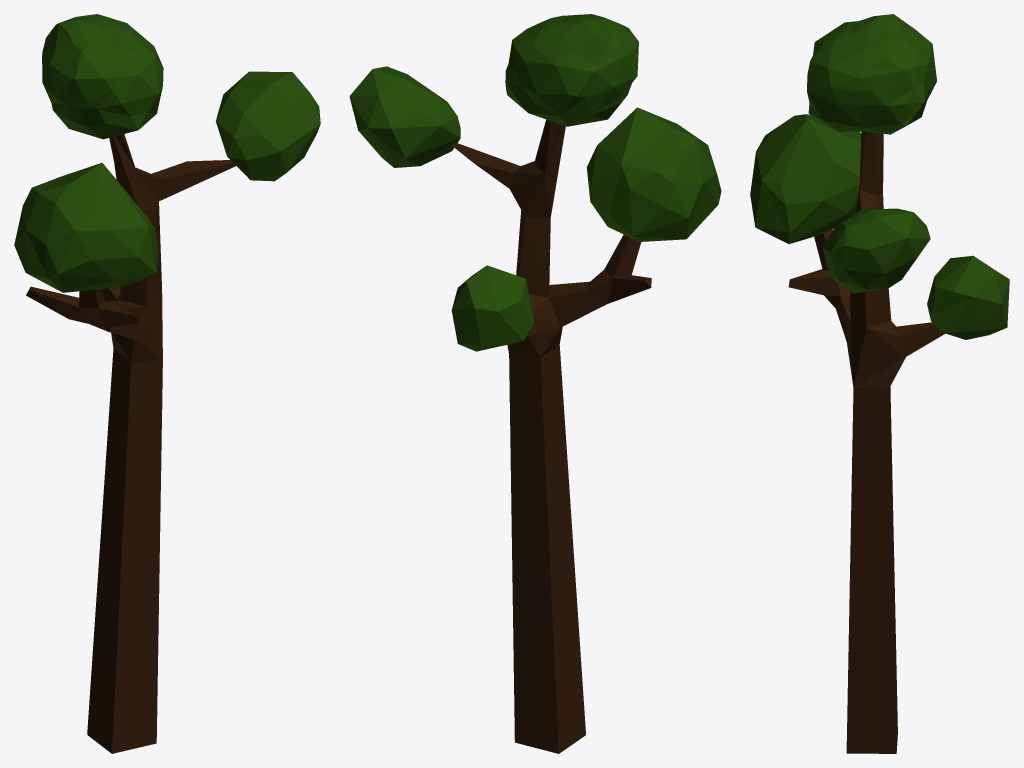
File: Tree.obj
3 views of the same model, side by side, from view 1: azimuth 30°, elevation 25°; view 2: azimuth 150°, elevation 25°; view 3: azimuth 270°, elevation 25° (orthographic). The views are drawn at different scales.
Parts seen in each view (by area): view 1: Tree1_Cube.020_Tree1_Cube.020_Tree1, Tree1_Cube.020_Tree1_Cube.020_Tree1_2.001; view 2: Tree1_Cube.020_Tree1_Cube.020_Tree1, Tree1_Cube.020_Tree1_Cube.020_Tree1_2.001; view 3: Tree1_Cube.020_Tree1_Cube.020_Tree1, Tree1_Cube.020_Tree1_Cube.020_Tree1_2.001.
Part boxes in pixels (x1,y1,x2,y2): Tree1_Cube.020_Tree1_Cube.020_Tree1: (14, 14, 320, 292); Tree1_Cube.020_Tree1_Cube.020_Tree1_2.001: (26, 134, 235, 753); Tree1_Cube.020_Tree1_Cube.020_Tree1: (349, 14, 721, 351); Tree1_Cube.020_Tree1_Cube.020_Tree1_2.001: (451, 119, 651, 753); Tree1_Cube.020_Tree1_Cube.020_Tree1: (750, 14, 1009, 339); Tree1_Cube.020_Tree1_Cube.020_Tree1_2.001: (788, 131, 945, 753).
Bounding box in the file's own units: 9.02 × 20.02 × 6.64.
